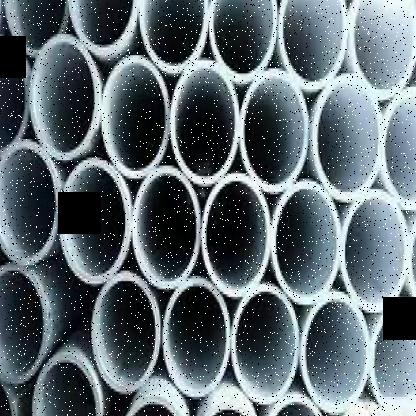pipe: (312, 73, 384, 201), (59, 159, 132, 284), (29, 34, 100, 160), (272, 181, 342, 306), (172, 58, 240, 185), (240, 68, 308, 193), (202, 172, 270, 297), (91, 272, 161, 392), (101, 56, 170, 177), (302, 292, 370, 414), (132, 166, 200, 288), (342, 188, 408, 312), (232, 284, 300, 404), (162, 279, 231, 396), (0, 139, 59, 266), (351, 0, 416, 100), (279, 0, 347, 90), (210, 0, 278, 83), (0, 266, 48, 383), (371, 304, 415, 416), (139, 0, 208, 71), (379, 86, 416, 209), (32, 351, 102, 416), (0, 34, 31, 160), (69, 0, 137, 56), (4, 0, 68, 56), (119, 397, 189, 416), (403, 213, 416, 307), (263, 399, 329, 416), (0, 369, 17, 416), (195, 405, 260, 416)
